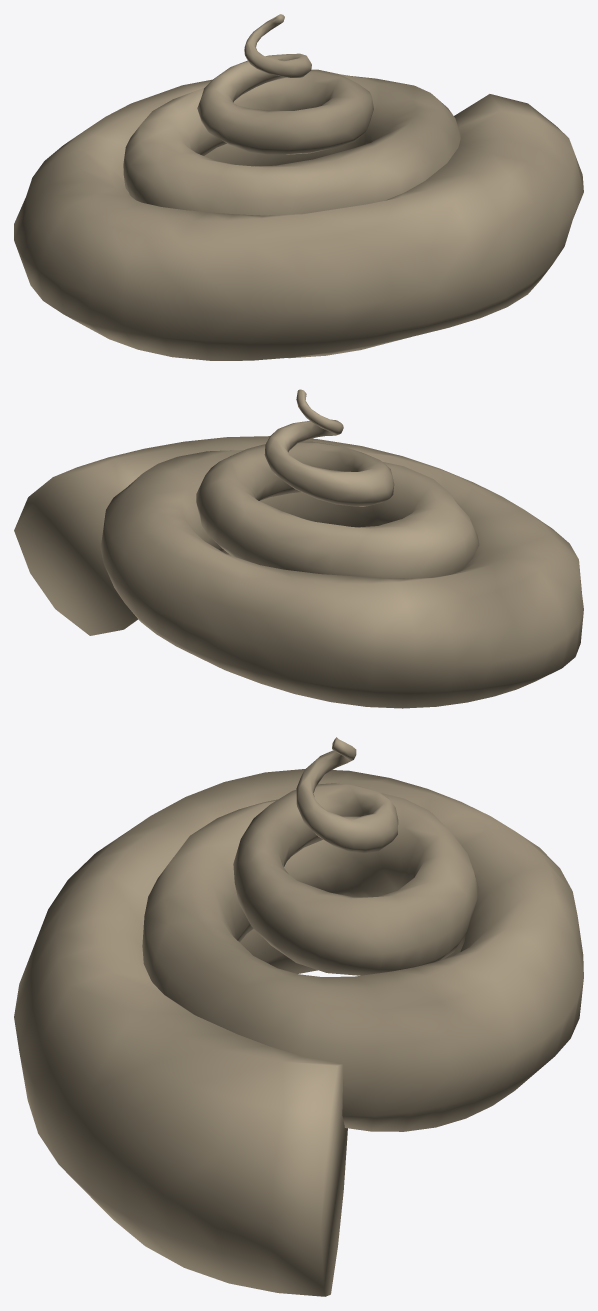
Rendered from shell-desktop.glb.
The picture shows the model from 3 angles, top to bottom: view 1: azimuth 30°, elevation 25°; view 2: azimuth 150°, elevation 25°; view 3: azimuth 270°, elevation 25°; orthographic projection. The views are drawn at different scales.
Visible parts, largest first — view 1: shell; view 2: shell; view 3: shell.
Part boxes in pixels (x1,y1,x2,y2): shell: (14,14,583,360); shell: (14,389,583,708); shell: (14,737,583,1296).
Bounding box in the file's own units: 0.46 × 0.24 × 0.3.
